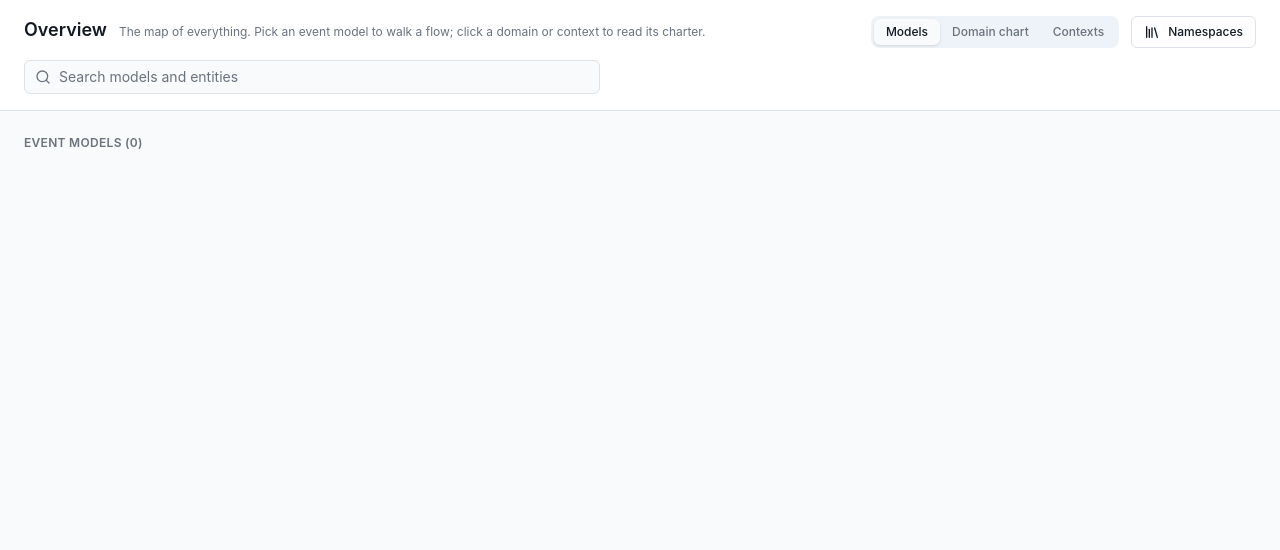
OverviewPage › search debounce › clears search results when the query drops below 2 characters
Step 1. Type "order" into the field with placeholder "Search models and entities" → (324, 77), box [59,67,589,87]
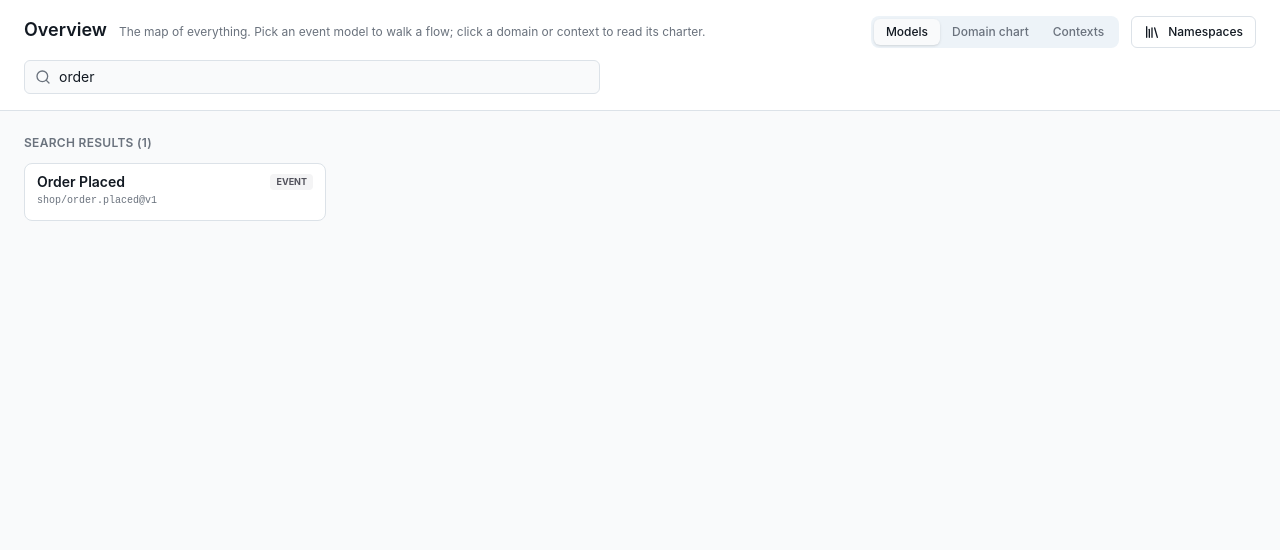
Expected: the heading "Search Results (1)" is shown, [24,135,152,150]
Step 2. Clear the field with placeholder "Search models and entities" → (324, 77), box [59,67,589,87]
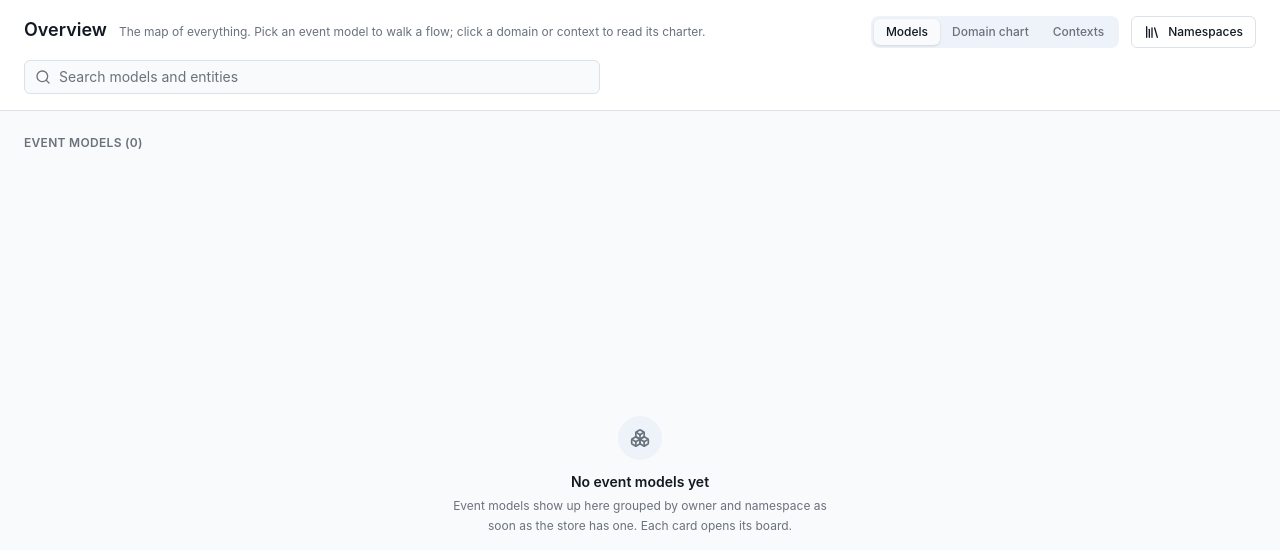
Expected: the heading "Search Results" is gone
